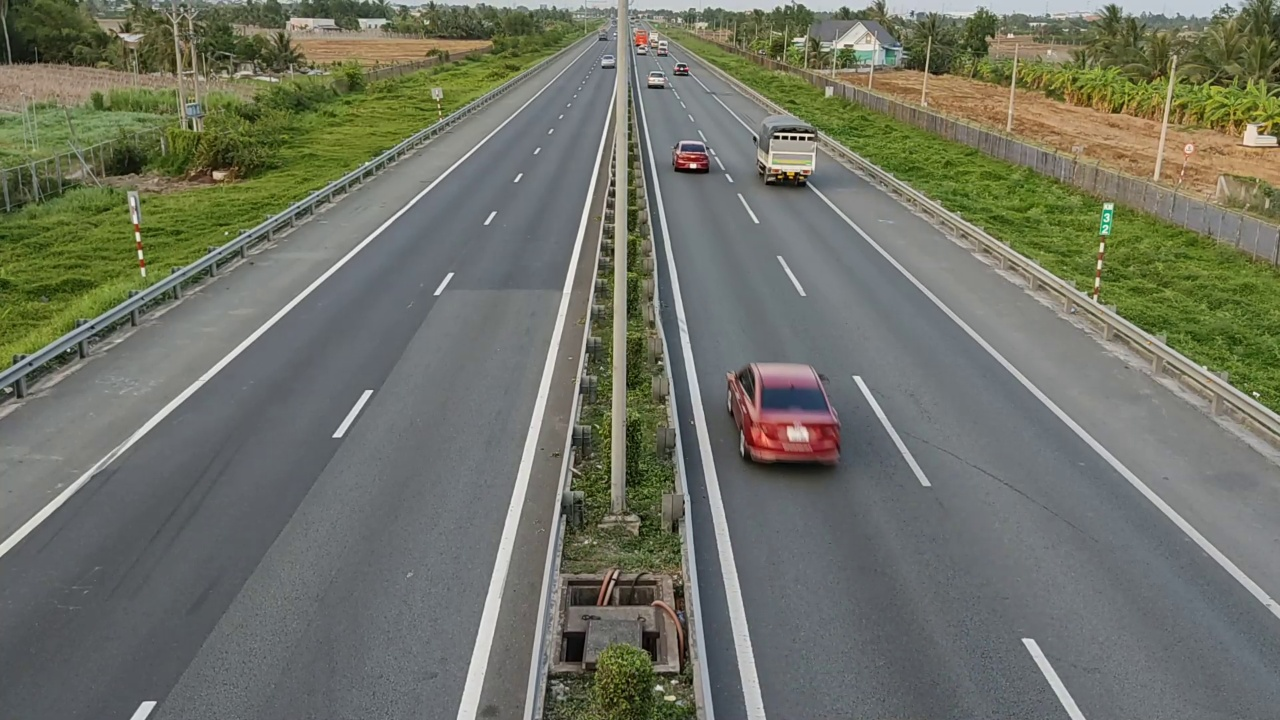car: (725, 361, 843, 466), (671, 139, 711, 173), (646, 71, 669, 88)
truck: (754, 113, 818, 185)
